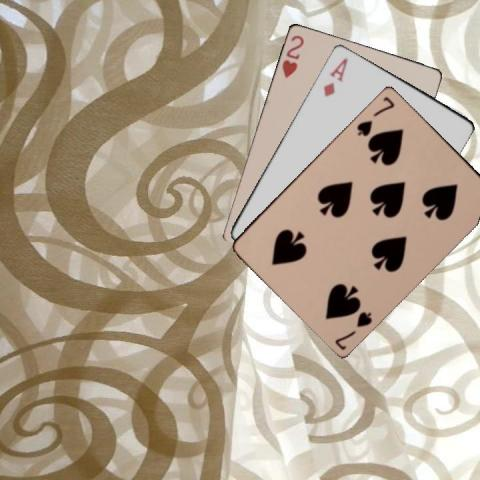2h: (279, 32, 305, 79)
7s: (353, 94, 396, 138), (332, 308, 374, 351)
Ad: (320, 54, 349, 98)
